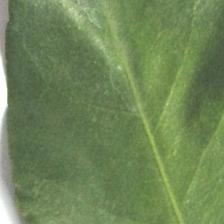healthy: (5, 0, 223, 224)
